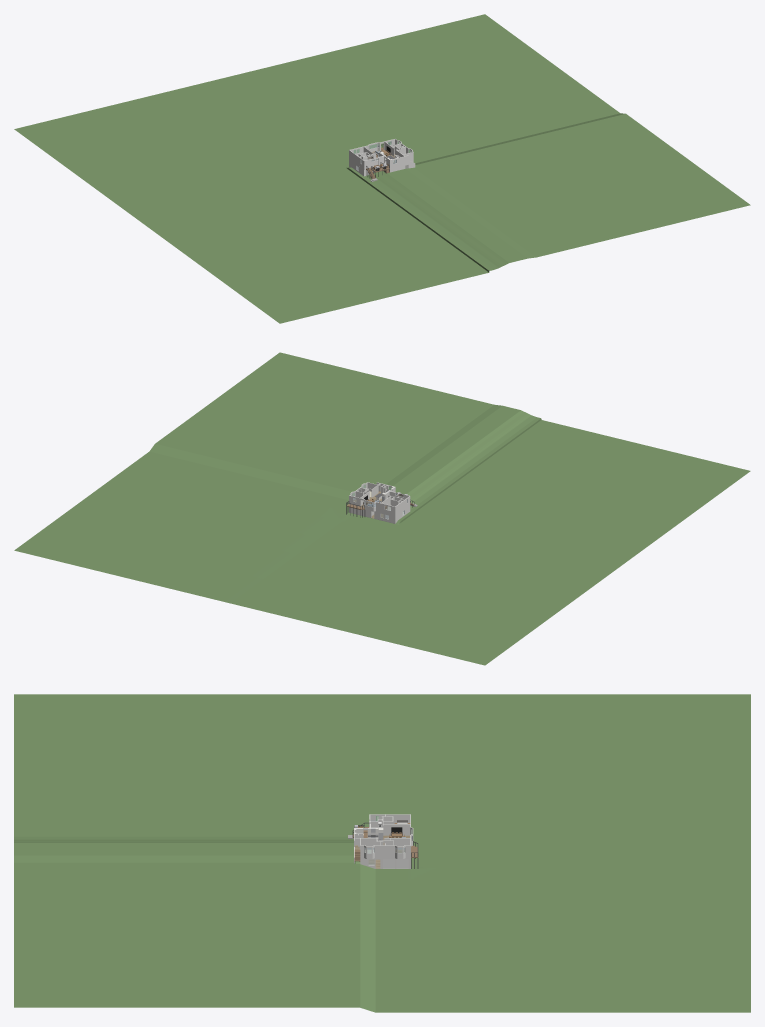
File: house.glb
The picture shows the model from 3 angles, top to bottom: view 1: azimuth 30°, elevation 25°; view 2: azimuth 150°, elevation 25°; view 3: azimuth 270°, elevation 25°; orthographic projection. The views are drawn at different scales.
Parts seen in each view (by area): view 1: FP Ground, FP Walls; view 2: FP Ground, FP Walls; view 3: FP Ground, FP Walls.
Part boxes in pixels (x1,y1,x2,y2): FP Ground: (14, 14, 750, 323); FP Walls: (349, 139, 413, 168); FP Ground: (14, 352, 750, 665); FP Walls: (349, 482, 410, 514); FP Ground: (14, 694, 750, 1012); FP Walls: (354, 814, 413, 857).
Size of the model in its own units: 149 by 5.2 by 145.
Materials: 27 (7 with a texture image).
